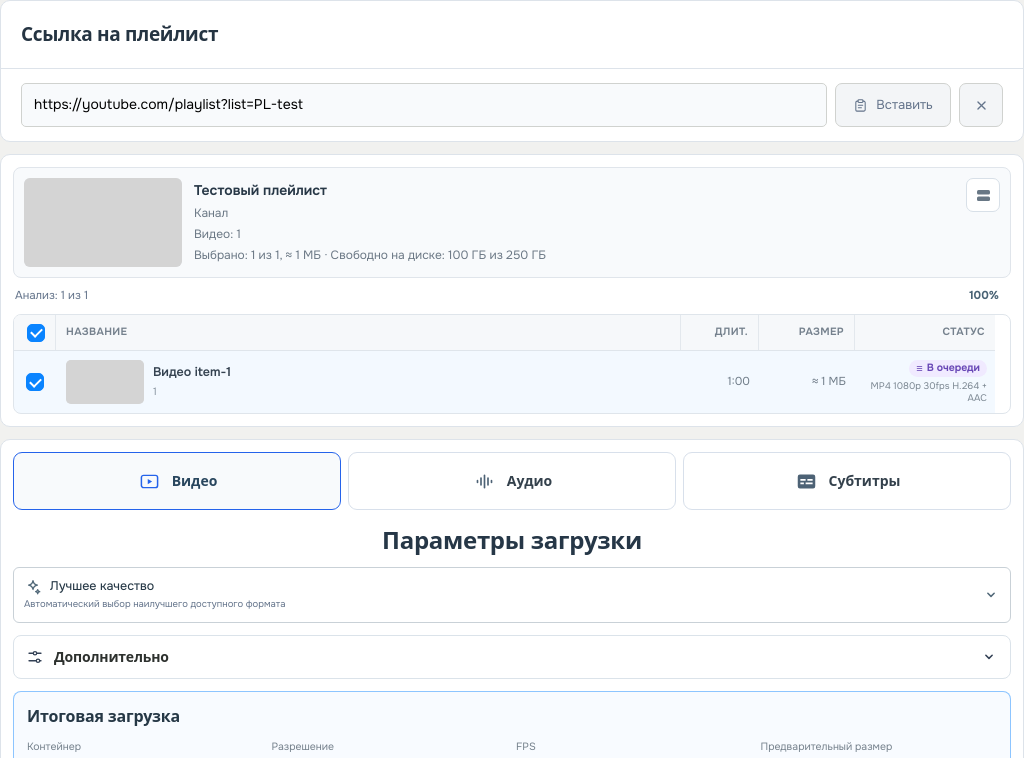
it: Playlist › shows a queue status only for the current mode and parameter signature
Check: the text "В очереди" is shown, box [927,361,980,374]
Click the tab "Аудио" at [512, 481], box [348,452,676,510]
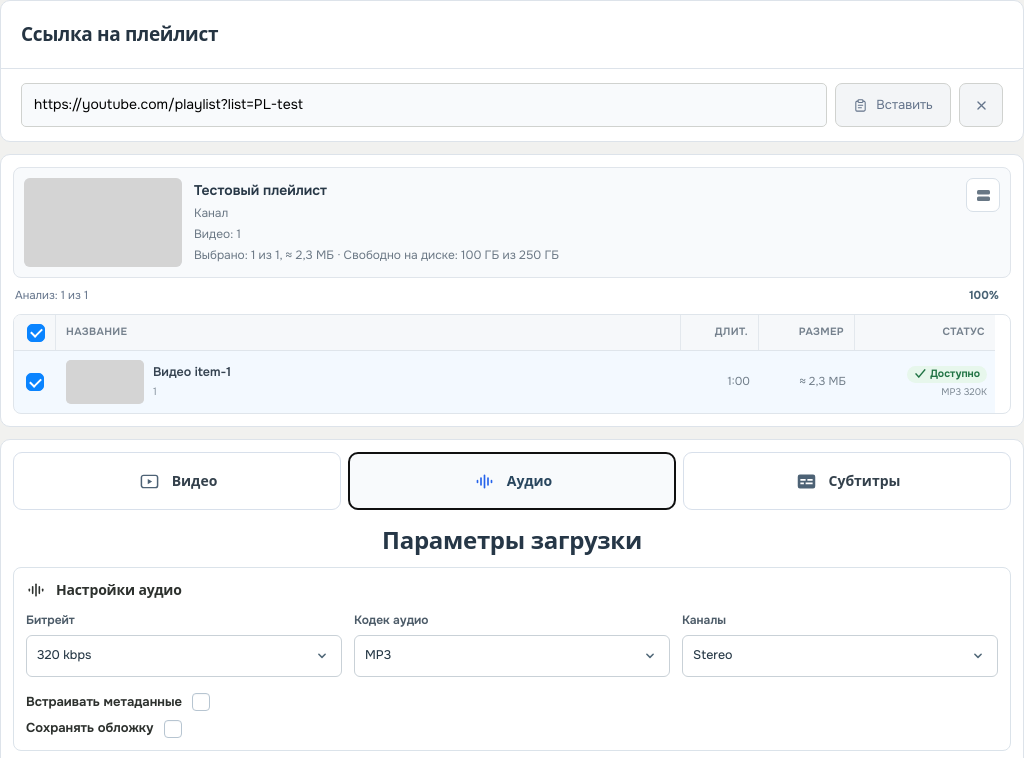
Check: the text "Доступно" is shown, box [930,367,980,380]
Check: the checkbox "В очереди" is gone
